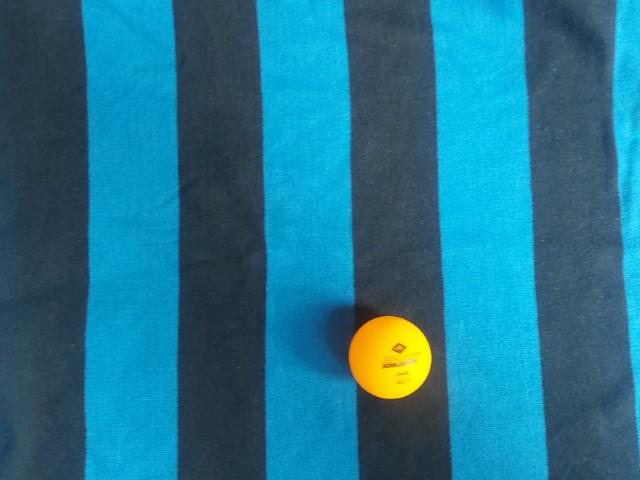oball: (338, 308, 442, 407)
